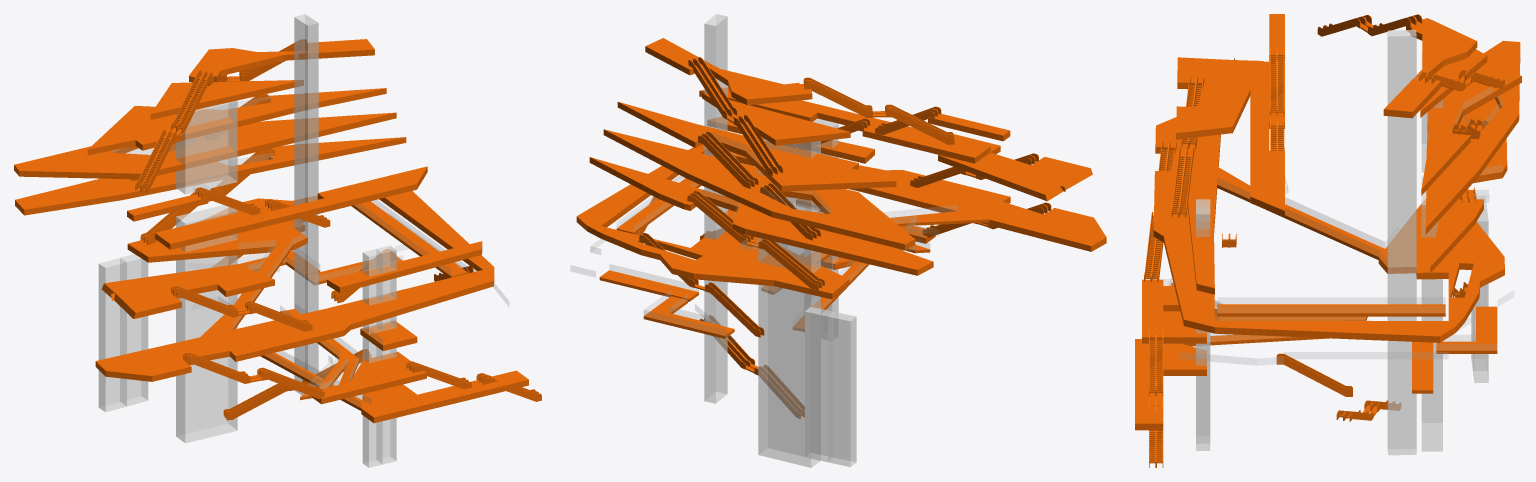
File: 260303_3dmod_exploded-circulation.glb
3 views of the same model, side by side, from view 1: azimuth 30°, elevation 25°; view 2: azimuth 150°, elevation 25°; view 3: azimuth 270°, elevation 25° (orthographic). The views are drawn at different scales.
Parts seen in each view (by area): view 1: 03_circulation, 03_circulation.001, 03_elevators, 03_services, 03_vertical_connections, 03_vertical_connections.001, 03_parapets, 03_parapets.001; view 2: 03_circulation, 03_circulation.001, 03_elevators, 03_services, 03_vertical_connections, 03_parapets.001, 03_vertical_connections.001, 03_parapets; view 3: 03_circulation, 03_circulation.001, 03_elevators, 03_parapets.001, 03_vertical_connections.001, 03_vertical_connections, 03_services, 03_parapets.
Part boxes in pixels (box(x1,y1,x2,y2)): 03_circulation: box(14, 39, 493, 284); 03_circulation.001: box(95, 166, 528, 423); 03_elevators: box(98, 14, 396, 467); 03_services: box(176, 100, 237, 443); 03_vertical_connections: box(130, 39, 473, 420); 03_vertical_connections.001: box(171, 187, 541, 401); 03_parapets: box(191, 231, 382, 407); 03_parapets.001: box(112, 97, 508, 305); 03_circulation: box(576, 38, 933, 338); 03_circulation.001: box(698, 87, 1106, 328); 03_elevators: box(704, 14, 856, 467); 03_services: box(758, 137, 820, 467); 03_vertical_connections: box(626, 57, 954, 418); 03_parapets.001: box(570, 131, 829, 344); 03_vertical_connections.001: box(700, 106, 1051, 240); 03_parapets: box(821, 189, 956, 308); 03_circulation: box(1214, 18, 1521, 393); 03_circulation.001: box(1135, 14, 1390, 430); 03_elevators: box(1196, 30, 1488, 455); 03_parapets.001: box(1180, 87, 1513, 365); 03_vertical_connections.001: box(1144, 45, 1284, 467); 03_vertical_connections: box(1276, 14, 1504, 421); 03_services: box(1421, 54, 1442, 451); 03_parapets: box(1163, 178, 1387, 344).
Bounding box in the file's own units: 7.67 × 6.98 × 5.42.
